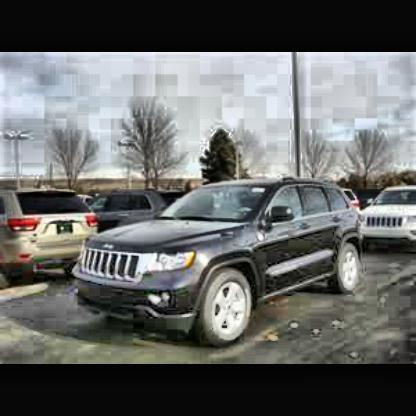Jeep Grand Cherokee SUV 2012: (76, 179, 372, 345)
